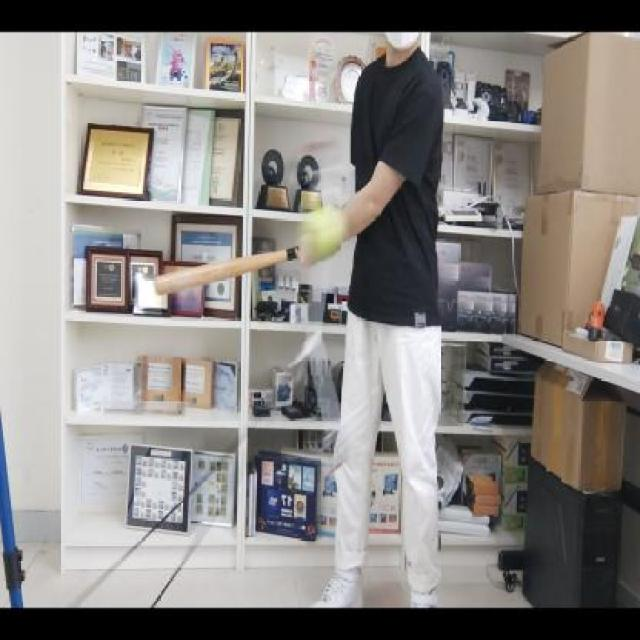baseball: (306, 203, 346, 254)
